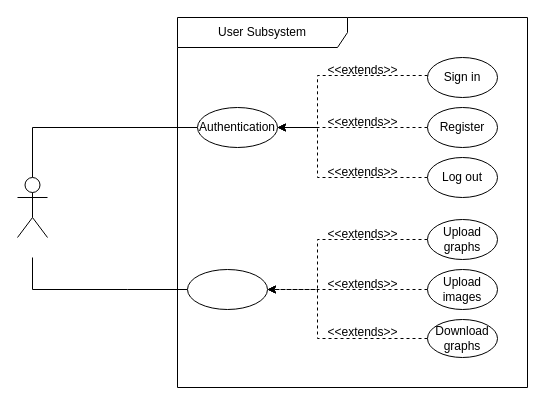
This 545x405 diagram has some shape labels left out. The shapes that lost their labels are listed below. From the top down, each one's centre as x and y in pixels, then its label:
At (x=32, y=207): "User".
At (x=227, y=289): "Social Interaction".
